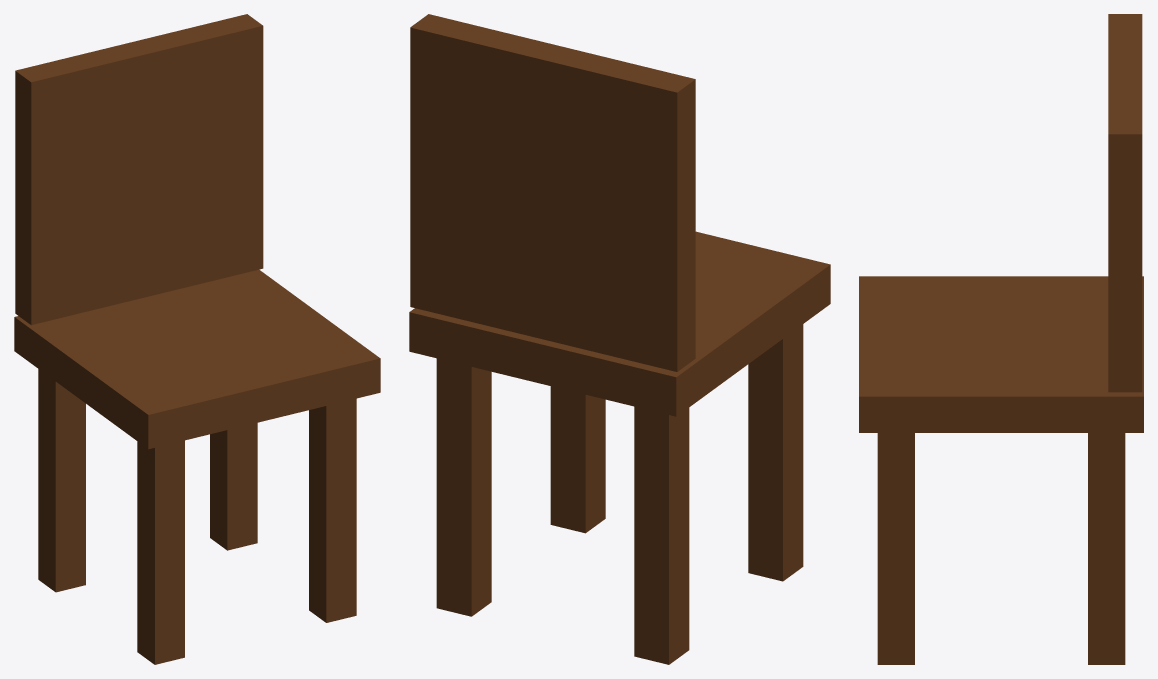
File: dining_chair.glb
3 renders of one model, left to right at view 1: azimuth 30°, elevation 25°; view 2: azimuth 150°, elevation 25°; view 3: azimuth 270°, elevation 25°, orthographic. The views are drawn at different scales.
Visible parts, largest first — view 1: Back, Seat, Leg-11, Leg11, Leg-1-1, Leg1-1; view 2: Back, Seat, Leg-1-1, Leg1-1, Leg-11, Leg11; view 3: Seat, Back, Leg1-1, Leg11.
Part boxes in pixels (<box>): Back: <box>15,14,263,325</box>; Seat: <box>14,269,380,449</box>; Leg-11: <box>137,440,184,664</box>; Leg11: <box>309,398,356,622</box>; Leg-1-1: <box>38,369,85,592</box>; Leg1-1: <box>210,423,257,550</box>; Back: <box>410,14,695,371</box>; Seat: <box>409,231,830,416</box>; Leg-1-1: <box>634,406,689,664</box>; Leg1-1: <box>436,358,491,616</box>; Leg-11: <box>748,324,803,581</box>; Leg11: <box>550,386,605,533</box>; Seat: <box>859,276,1143,432</box>; Back: <box>1108,14,1142,392</box>; Leg1-1: <box>1088,433,1125,664</box>; Leg11: <box>877,433,914,664</box>.
Size of the model in its own units: 0.46 by 0.96 by 0.46.
